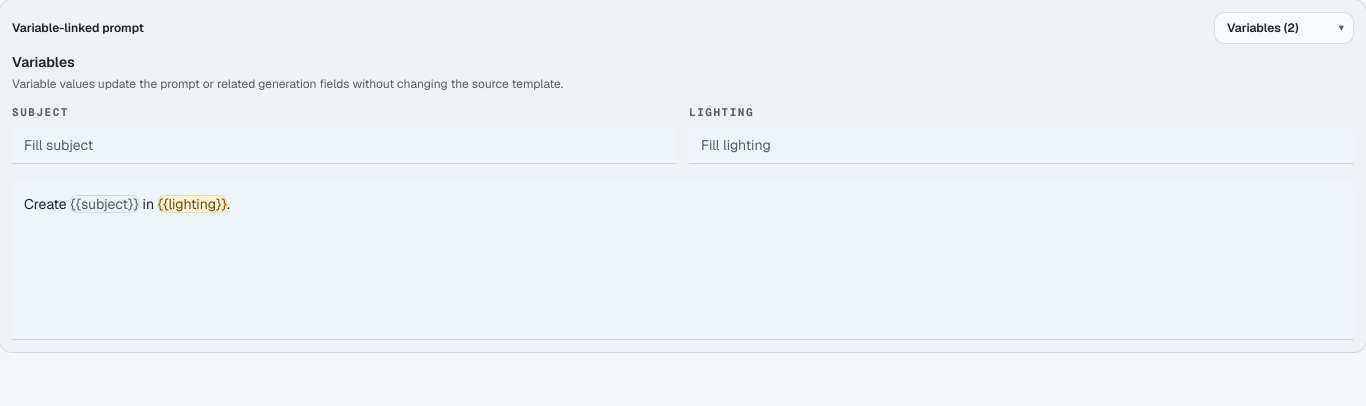
Test case: UnifiedPromptEditor › renders template variables outside the template body and resolves them
Check: the dropdown named "Prompt mode" shows "Variables (2)", box [1214, 12, 1354, 44]
Check: the text box named "Template Source" holds "Create {{subject}} in {{lighting}}.", box [12, 180, 1354, 338]
Step 1. Type "glass chair" into the field named "Variable subject" → (344, 145), box [12, 126, 677, 164]
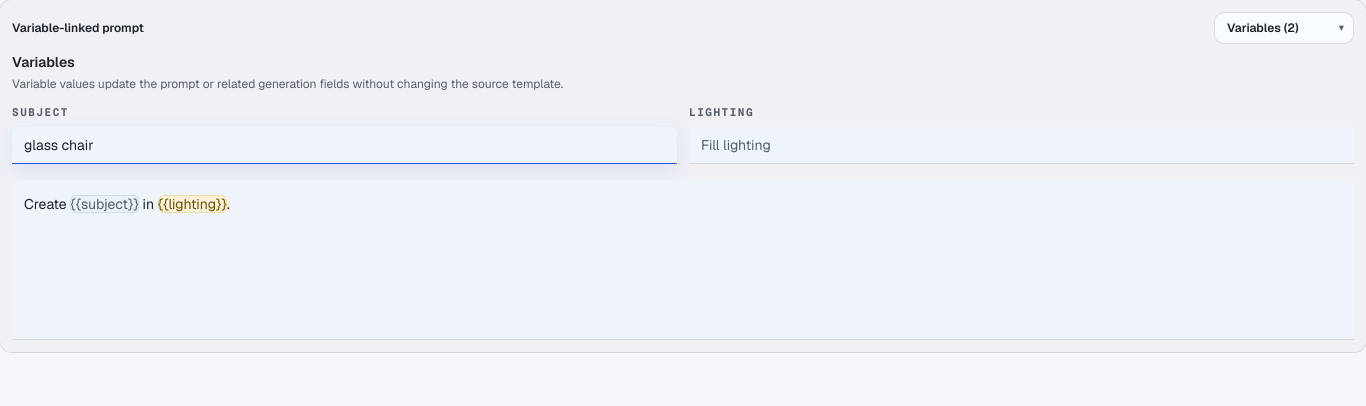
Step 2. Type "soft daylight" into the field named "Variable lighting" → (1022, 145), box [689, 126, 1354, 164]
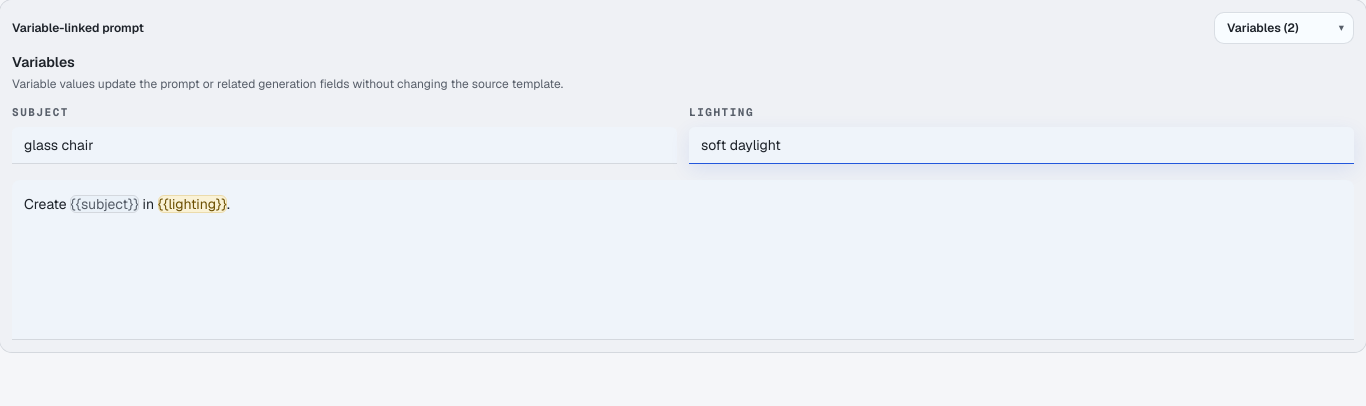
Step 3. Select "Full text" in the dropdown named "Prompt mode" → (1284, 28), box [1214, 12, 1354, 44]
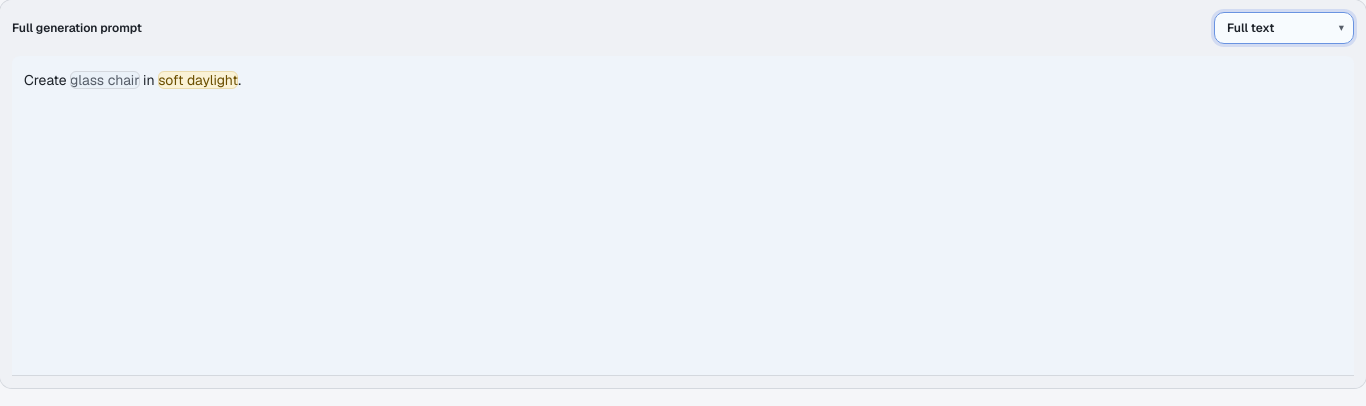
Check: the text box named "Full Generation Prompt" holds "Create glass chair in soft daylight."
